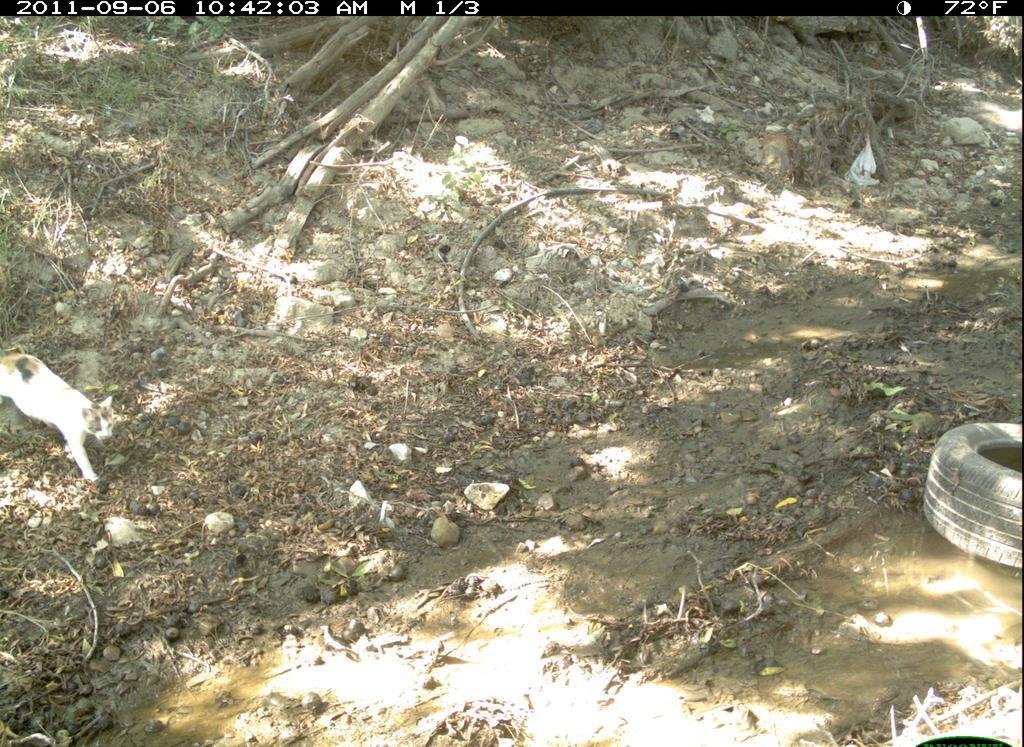cat: (1, 342, 129, 487)
